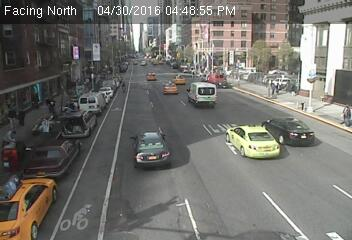neg: (311, 29, 328, 51), (226, 73, 240, 92), (112, 102, 126, 121), (179, 87, 192, 105), (237, 27, 248, 42), (267, 51, 278, 66), (227, 27, 238, 41), (161, 27, 172, 41), (168, 61, 176, 71), (135, 22, 143, 32)
pos: (1, 106, 20, 132), (337, 101, 351, 127), (43, 96, 57, 115), (266, 82, 277, 97), (276, 81, 286, 94)
